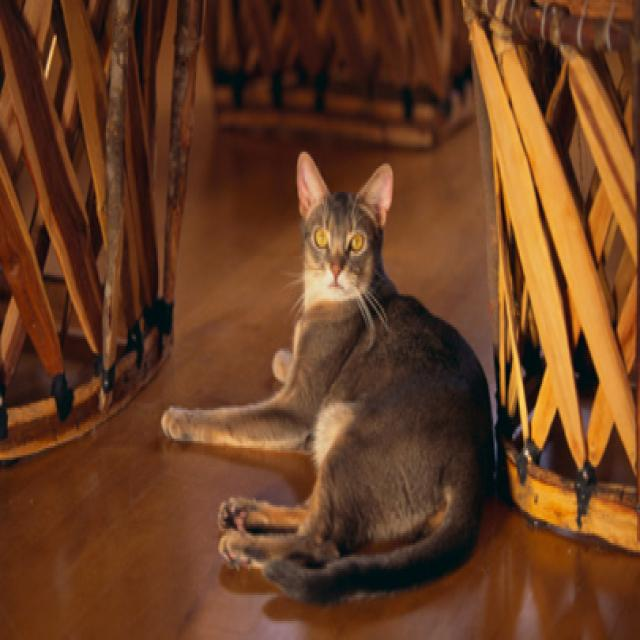Abyssinian: (157, 145, 504, 610)
